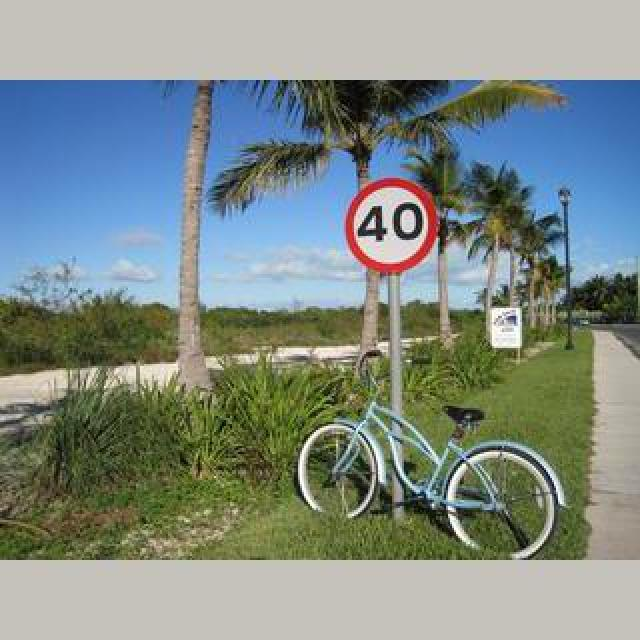Person: (294, 351, 564, 555)
